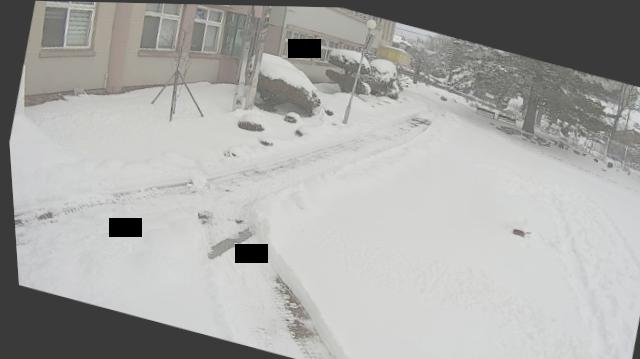smoke: (507, 213, 526, 229)
